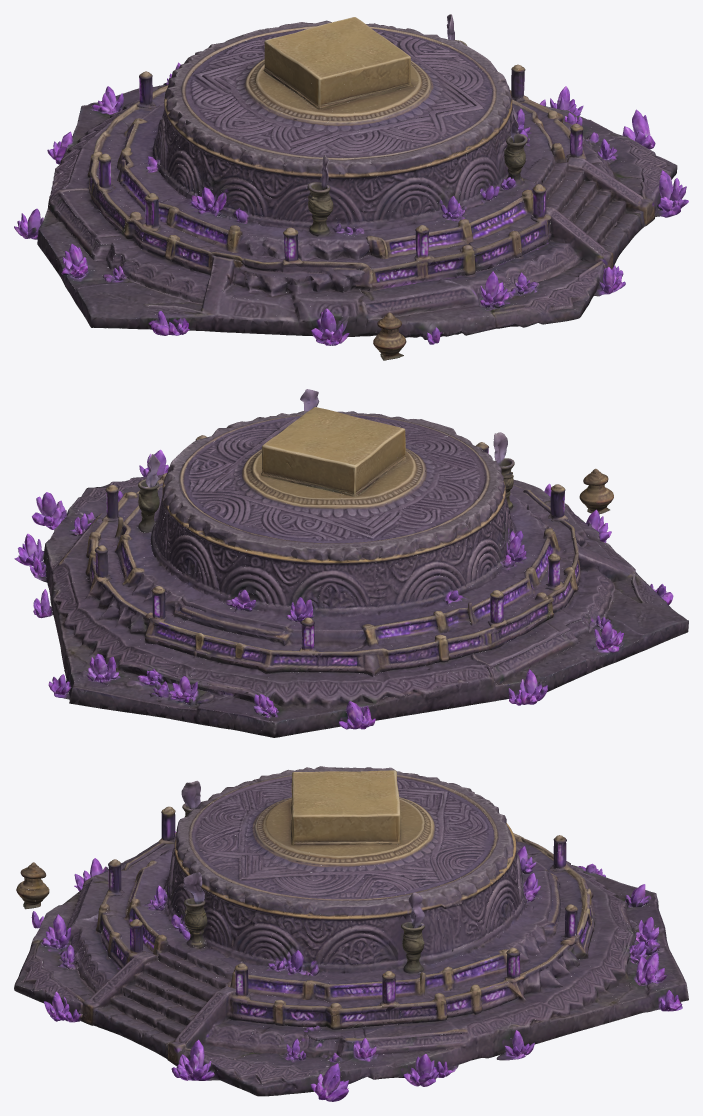
Rendered from tripo_throne_detail_lod.glb.
The picture shows the model from 3 angles, top to bottom: view 1: azimuth 30°, elevation 25°; view 2: azimuth 150°, elevation 25°; view 3: azimuth 270°, elevation 25°; orthographic projection.
Visible parts, largest first — view 1: tripo_node_4466dea6-6aea-4264-ab11-99b2a6dcdebc; view 2: tripo_node_4466dea6-6aea-4264-ab11-99b2a6dcdebc; view 3: tripo_node_4466dea6-6aea-4264-ab11-99b2a6dcdebc.
Part boxes in pixels (box(x1,y1,x2,y2)): tripo_node_4466dea6-6aea-4264-ab11-99b2a6dcdebc: box(14, 14, 688, 360); tripo_node_4466dea6-6aea-4264-ab11-99b2a6dcdebc: box(14, 389, 688, 737); tripo_node_4466dea6-6aea-4264-ab11-99b2a6dcdebc: box(14, 766, 688, 1101).
Bounding box in the file's own units: 0.9795 × 0.2548 × 0.9539.
Materials: 1 (1 with a texture image).
